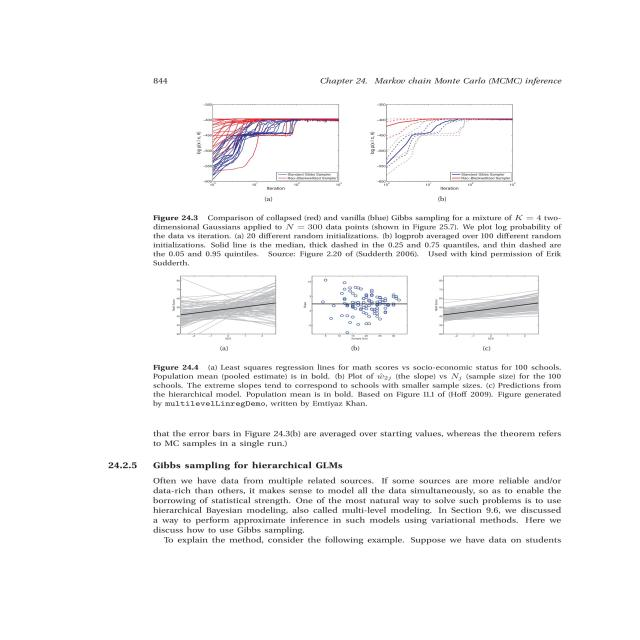diagram: (126, 90, 624, 420)
